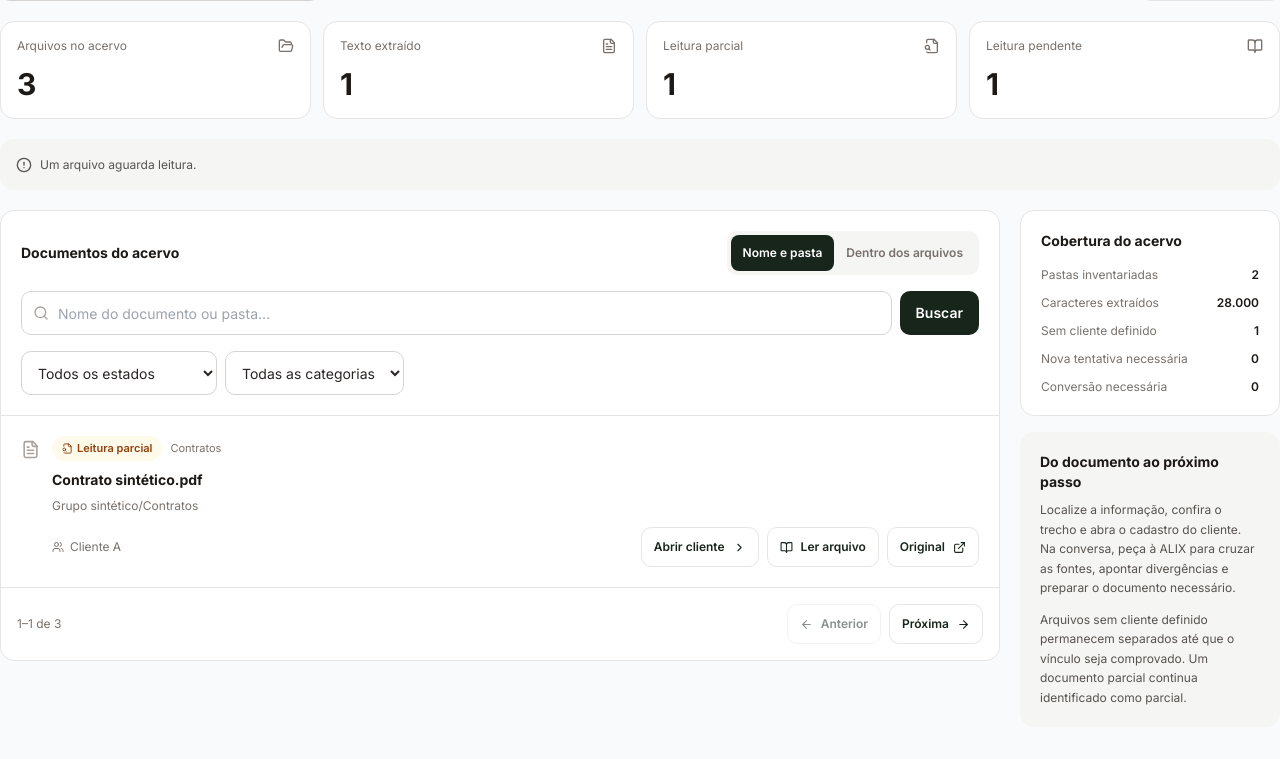
Test: Drive e dados na ALIX › atualiza só a cada 30 segundos visíveis e preserva o trecho aberto e seu cursor
The width and height of the screenshot is (1280, 759).
(page scrolled)
Click the button "Ler arquivo": (823, 547) top-left (767, 527), bottom-right (879, 567)
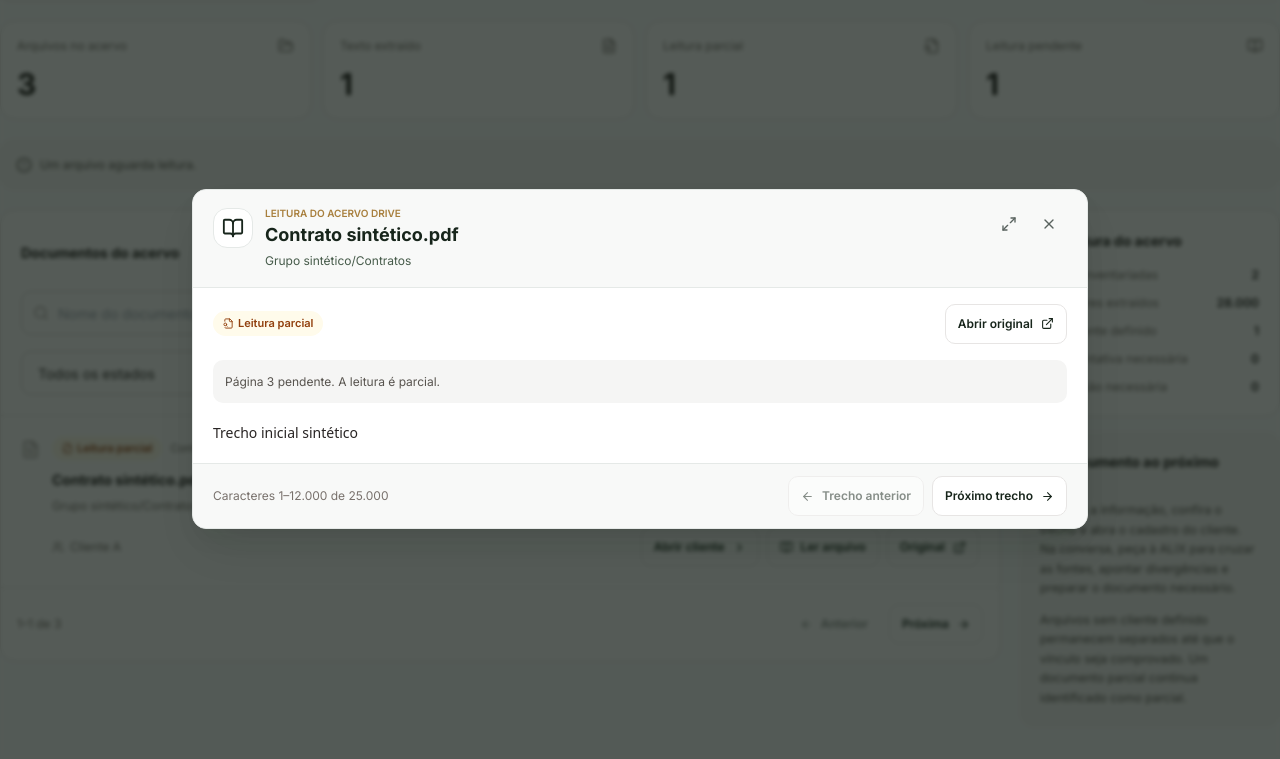
Click the button "Próximo trecho": (1000, 496) top-left (932, 476), bottom-right (1067, 516)
Wait 120000 ms
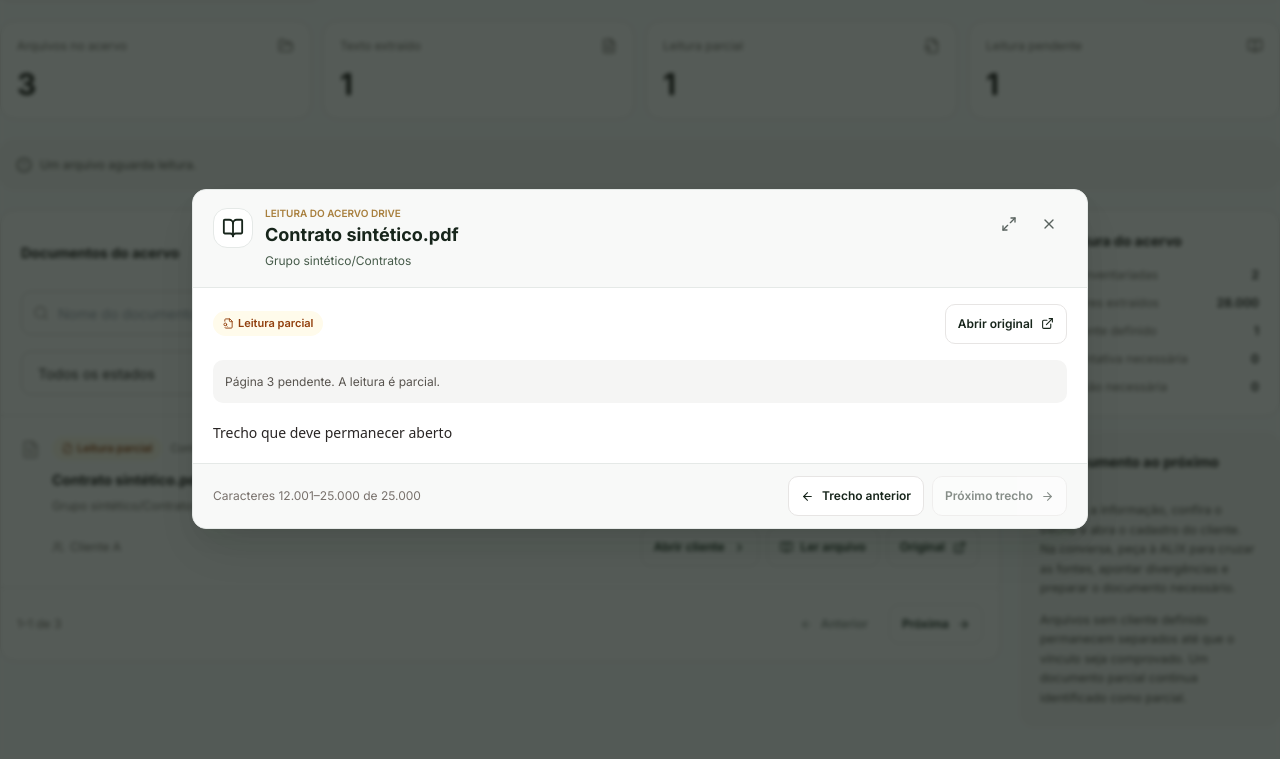
expect the text "Trecho que deve permanecer aberto" is shown: met, box top-left (213, 423), bottom-right (452, 442)
expect the button "Trecho anterior" is enabled: met, box top-left (788, 476), bottom-right (924, 516)
